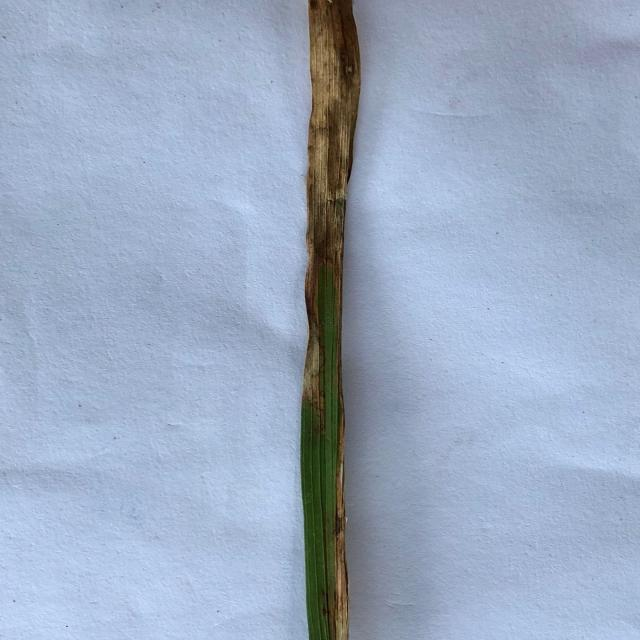Leaf Blight: (303, 0, 360, 640)
